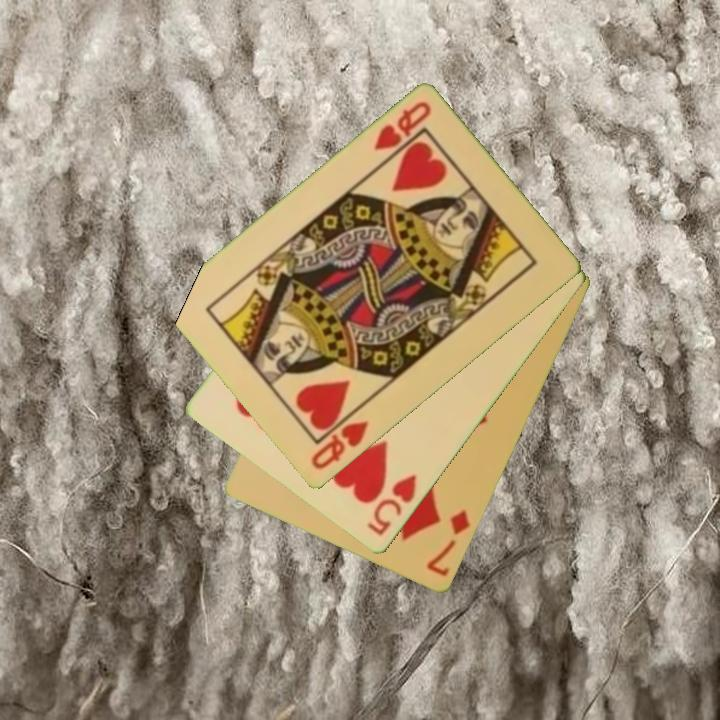5h: (363, 471, 420, 539)
7d: (423, 506, 473, 580)
Qh: (307, 405, 372, 473), (370, 98, 435, 154)
